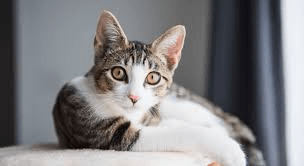cat: (57, 10, 207, 157)
